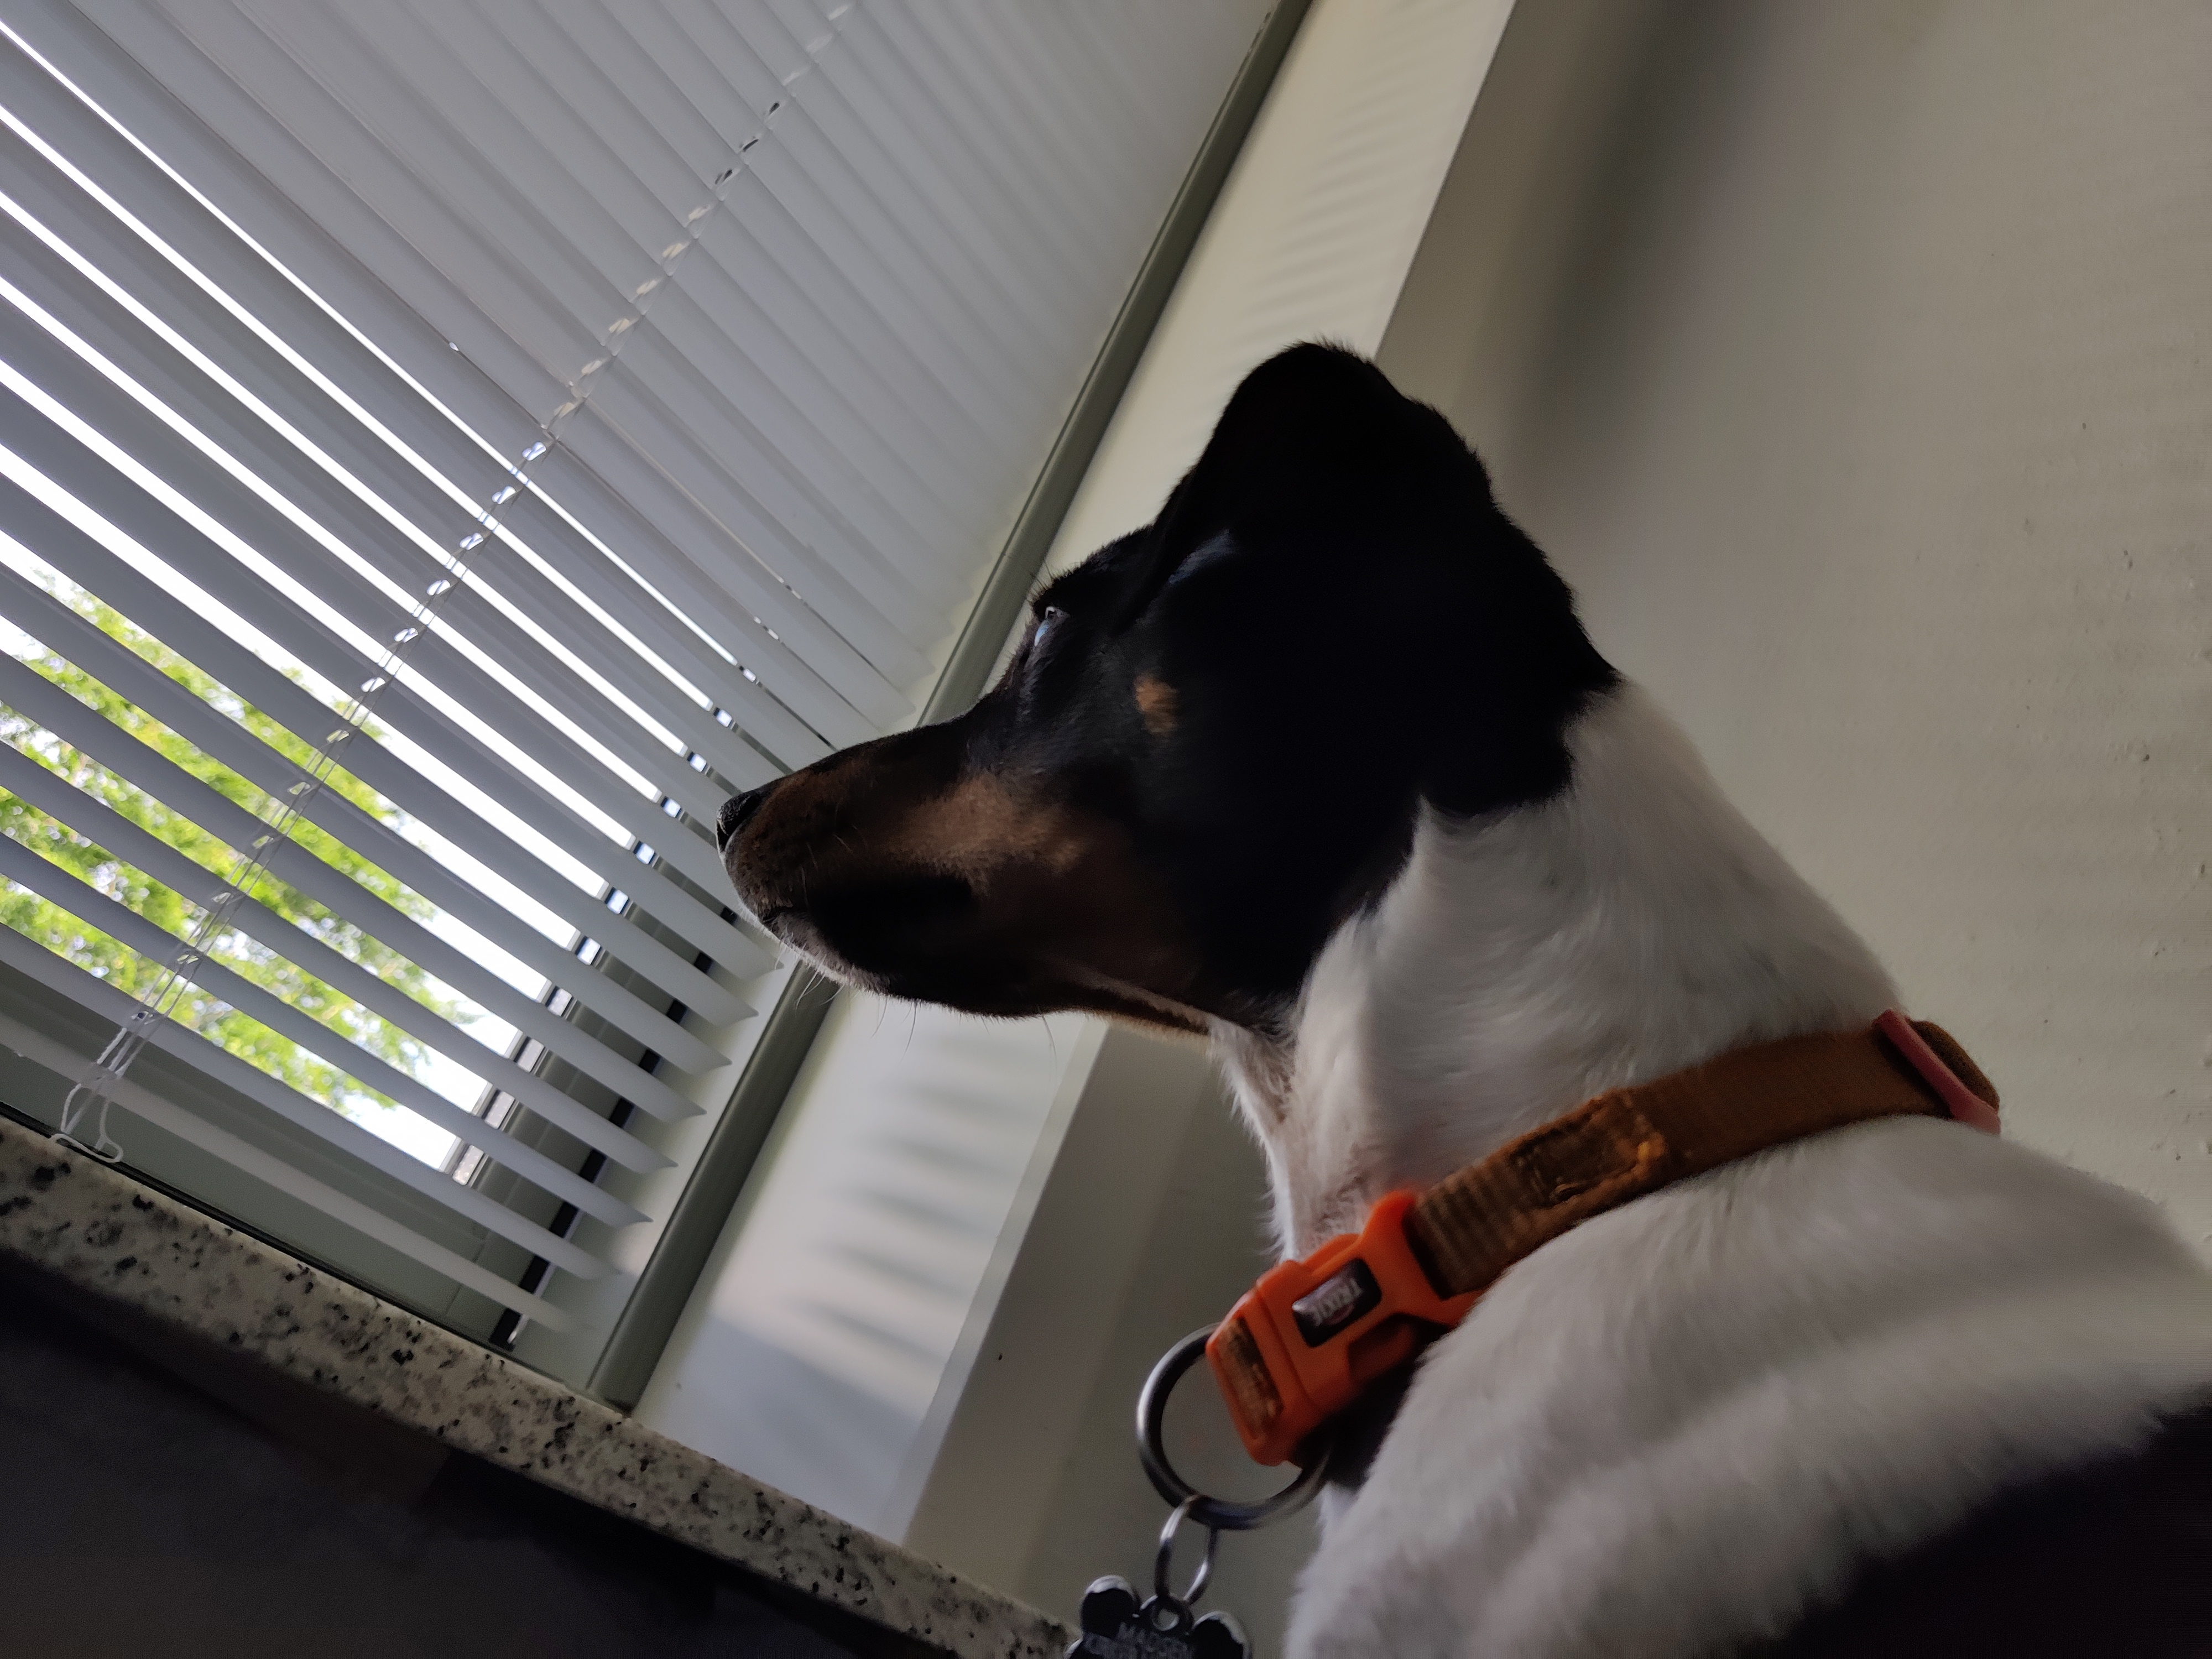Dog: (705, 329, 2212, 1659)
